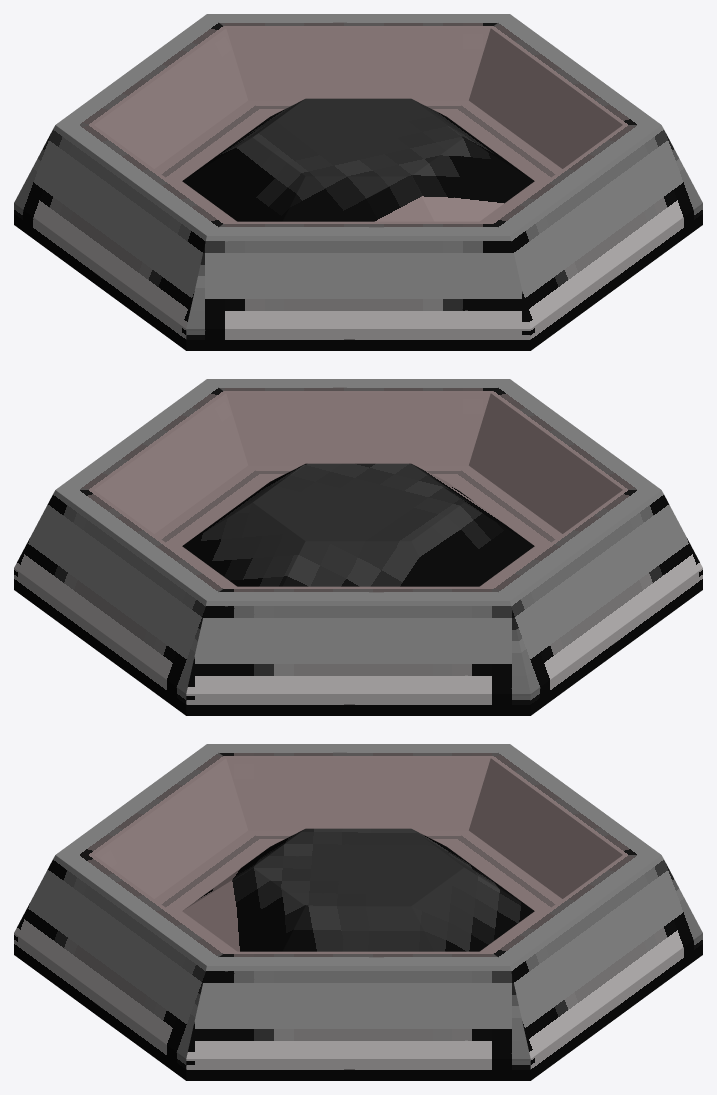
Rendered from lamp.obj.
The picture shows the model from 3 angles, top to bottom: view 1: azimuth 30°, elevation 25°; view 2: azimuth 150°, elevation 25°; view 3: azimuth 270°, elevation 25°; orthographic projection.
Visible parts, largest first — view 1: Cylinder; view 2: Cylinder; view 3: Cylinder.
Boxes of the visible parts, x1,y1,x2,y2 form: Cylinder: [14, 14, 702, 350]; Cylinder: [14, 379, 702, 715]; Cylinder: [14, 744, 702, 1080].
Bounding box in the file's own units: 0.866 × 0.16 × 1.
